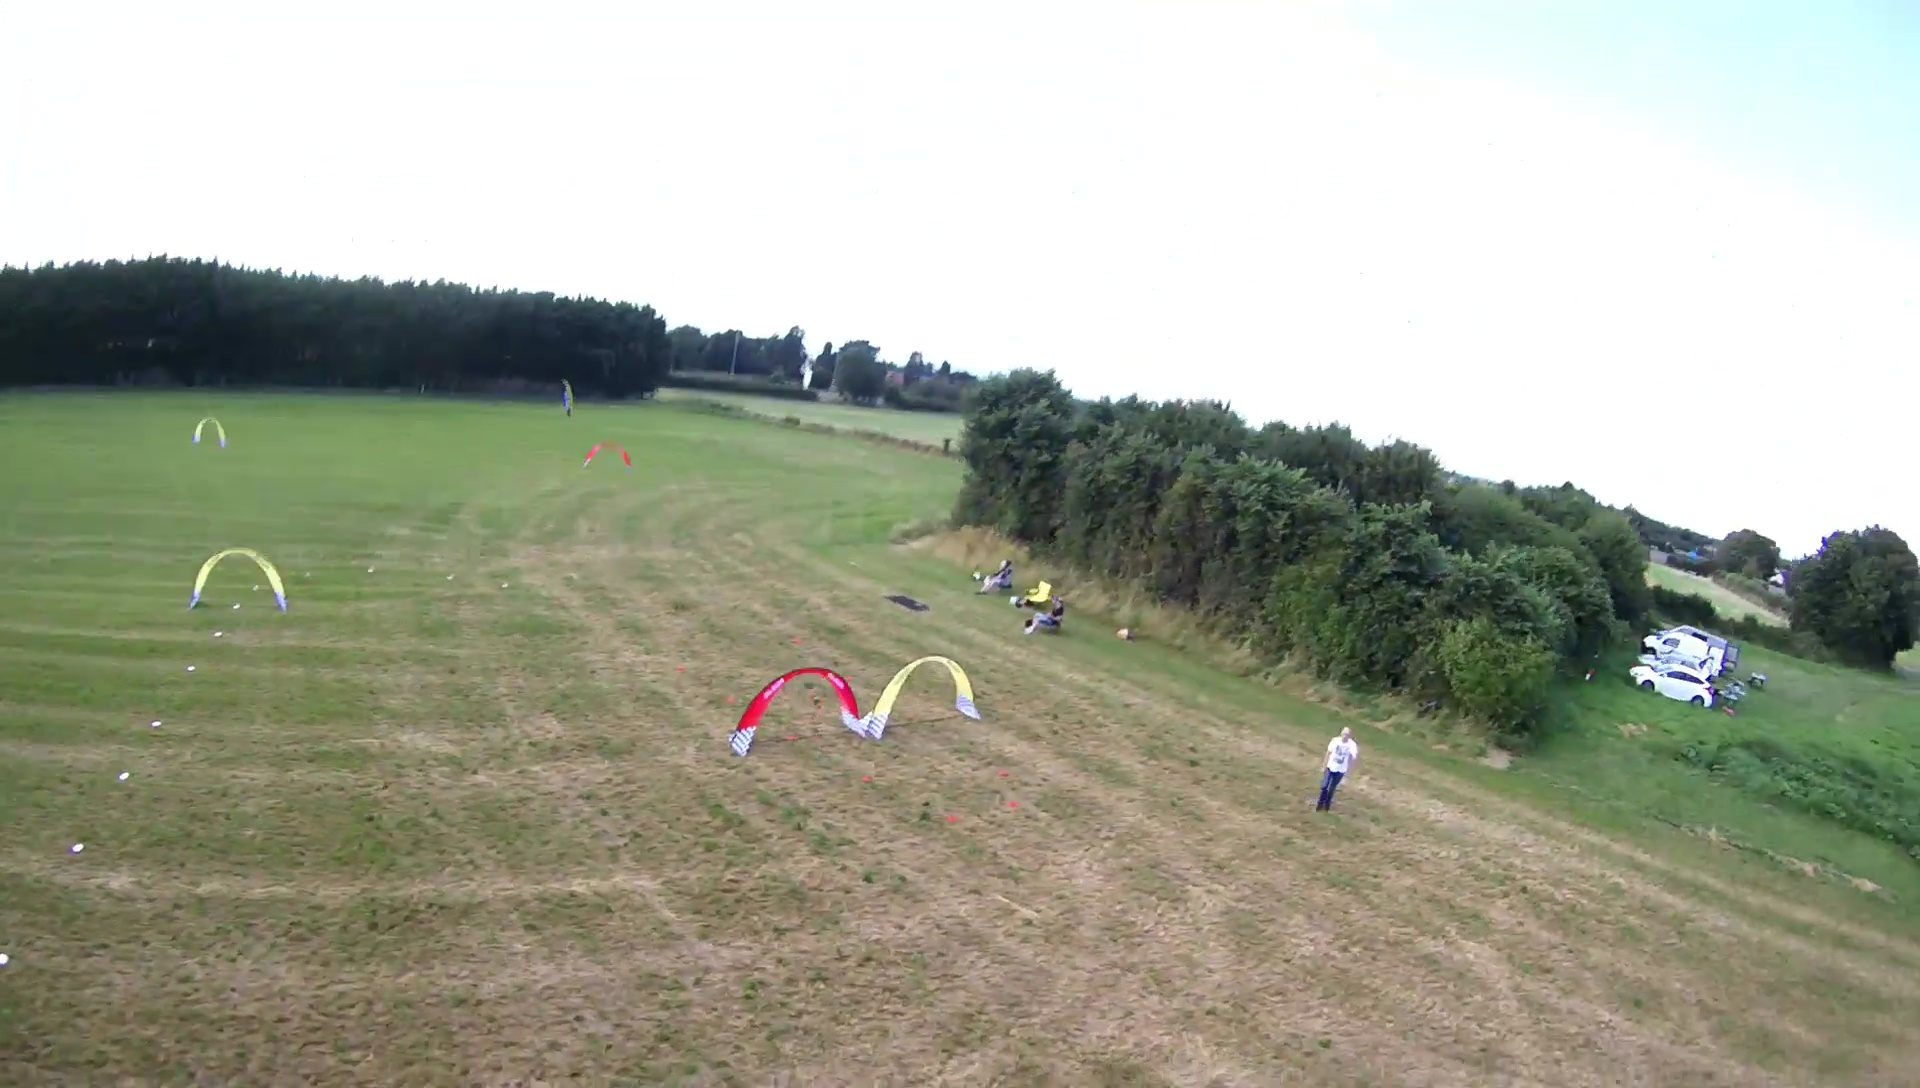gate: (724, 666, 865, 760), (862, 651, 984, 741), (190, 545, 290, 615), (580, 440, 634, 471), (193, 415, 227, 450)
